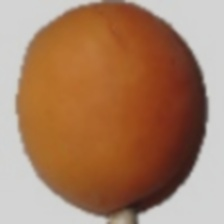apricot: (18, 30, 168, 206)
